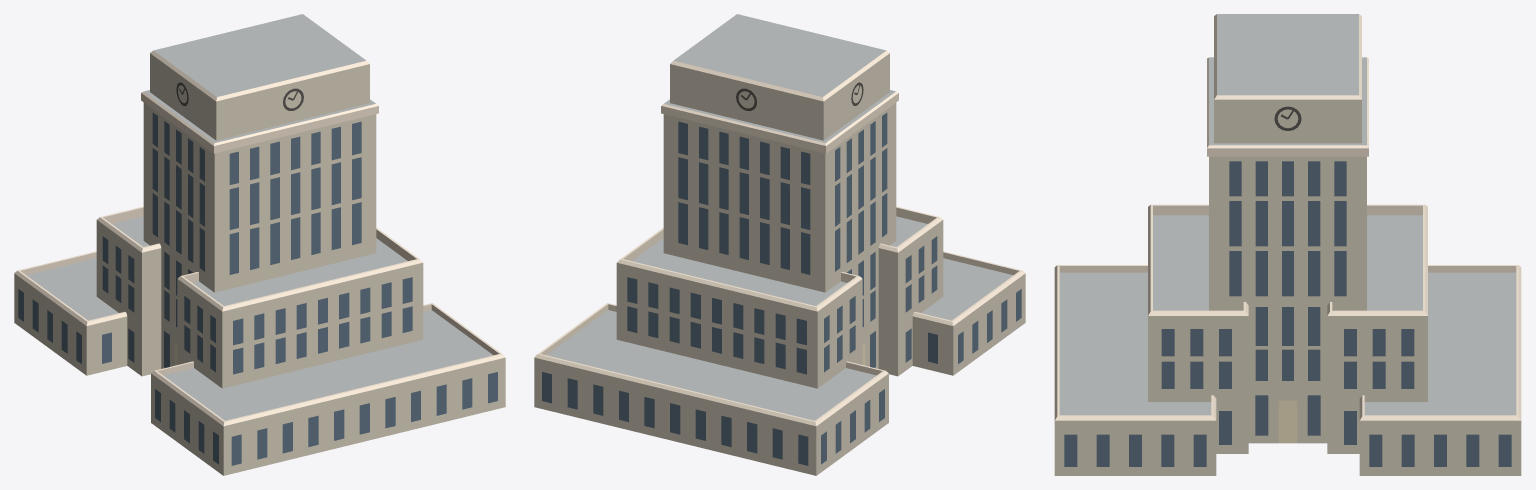
The model's file is hou-city-hall.glb.
3 views of the same model, side by side, from view 1: azimuth 30°, elevation 25°; view 2: azimuth 150°, elevation 25°; view 3: azimuth 270°, elevation 25° (orthographic). The views are drawn at different scales.
Parts seen in each view (by area): view 1: Houston City Hall; view 2: Houston City Hall; view 3: Houston City Hall.
Boxes of the visible parts, <box> form: Houston City Hall: <box>14,14,505,475</box>; Houston City Hall: <box>534,14,1025,475</box>; Houston City Hall: <box>1054,14,1521,475</box>.
Bounding box in the file's own units: 50.7 × 53 × 65.1.
